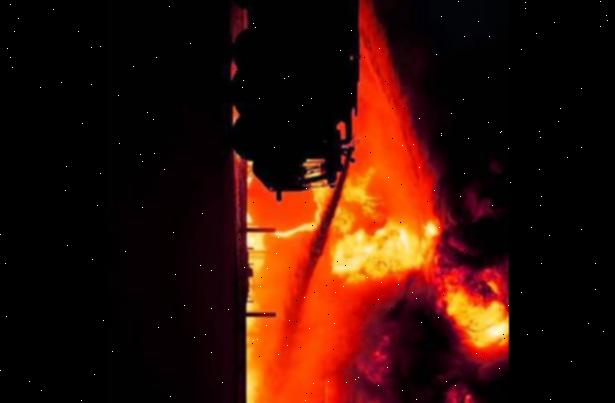fire: (240, 153, 507, 403)
